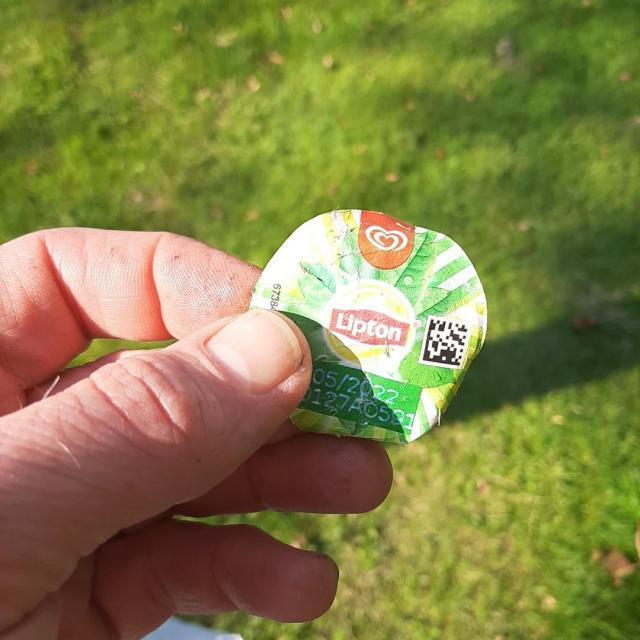Paper: (242, 206, 490, 447)
